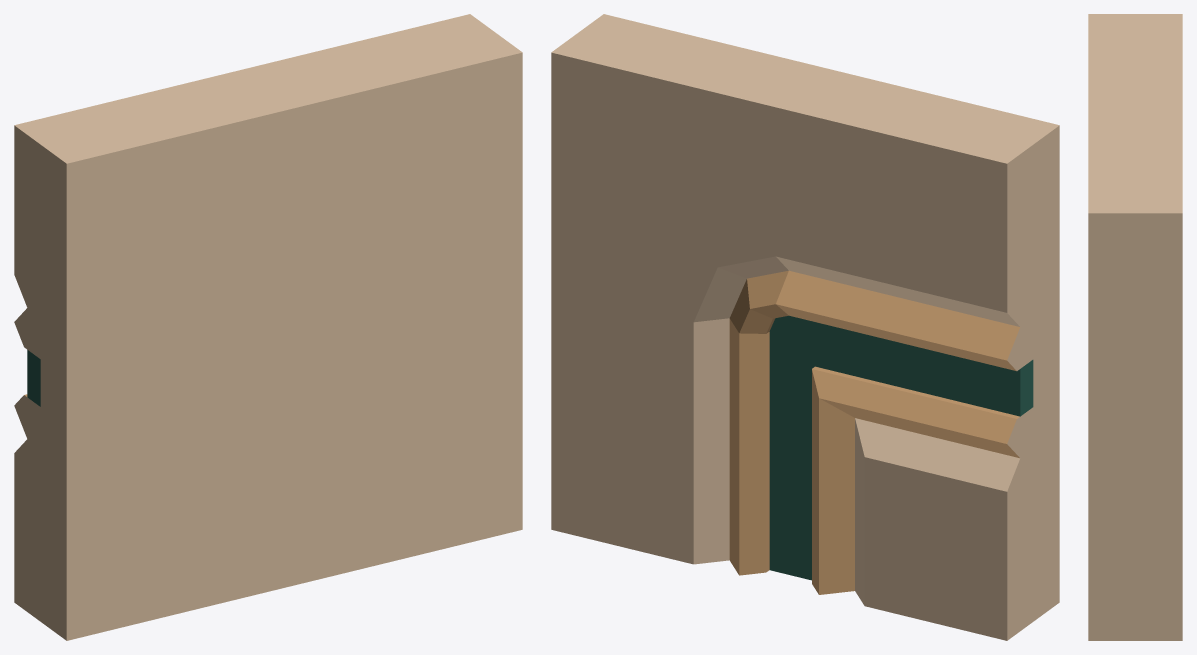
Rendered from Puzzle_Wall_Conduit_Path_Corner.obj.
3 views of the same model, side by side, from view 1: azimuth 30°, elevation 25°; view 2: azimuth 150°, elevation 25°; view 3: azimuth 270°, elevation 25° (orthographic). The views are drawn at different scales.
Visible parts, largest first — view 1: object2; view 2: object2, object1; view 3: object2.
Part boxes in pixels (box(x1,y1,x2,y2)): object2: box(14, 14, 522, 640); object2: box(551, 14, 1059, 640); object1: box(769, 315, 1033, 580); object2: box(1088, 14, 1182, 640).
Size of the model in its own units: 1 by 1 by 0.2.
